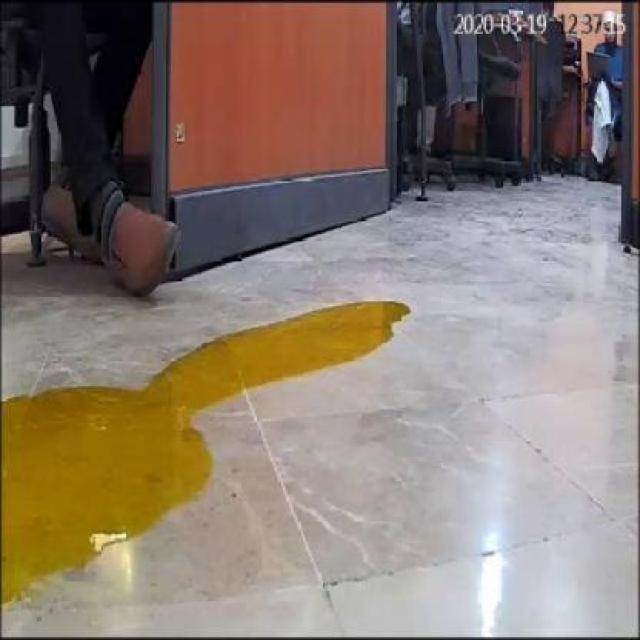spillage: (1, 301, 409, 608)
